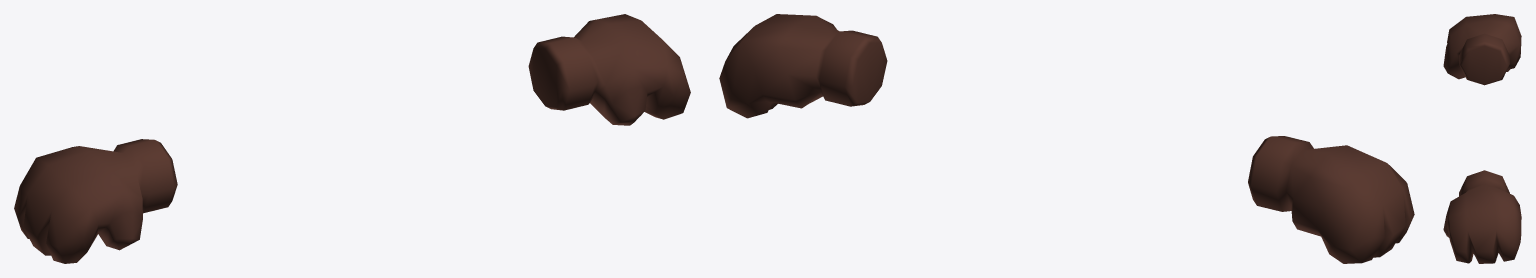
The model's file is Glove_2.fbx.
The picture shows the model from 3 angles, left to right: view 1: azimuth 30°, elevation 25°; view 2: azimuth 150°, elevation 25°; view 3: azimuth 270°, elevation 25°; orthographic projection. The views are drawn at different scales.
Parts seen in each view (by area): view 1: Glove_2; view 2: Glove_2; view 3: Glove_2.
Part boxes in pixels (box(x1,y1,x2,y2)): Glove_2: box(14, 14, 690, 263); Glove_2: box(719, 14, 1414, 263); Glove_2: box(1443, 14, 1521, 263).
Bounding box in the file's own units: 136 × 18.36 × 21.27.
